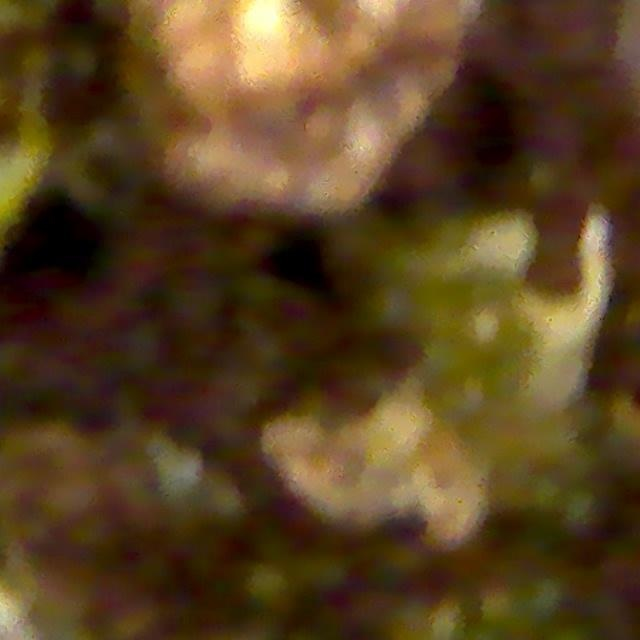SeaGrape: (390, 132, 456, 200), (44, 466, 101, 524), (297, 545, 353, 600), (65, 508, 120, 563), (116, 320, 164, 373), (130, 548, 177, 596), (233, 269, 280, 315)
